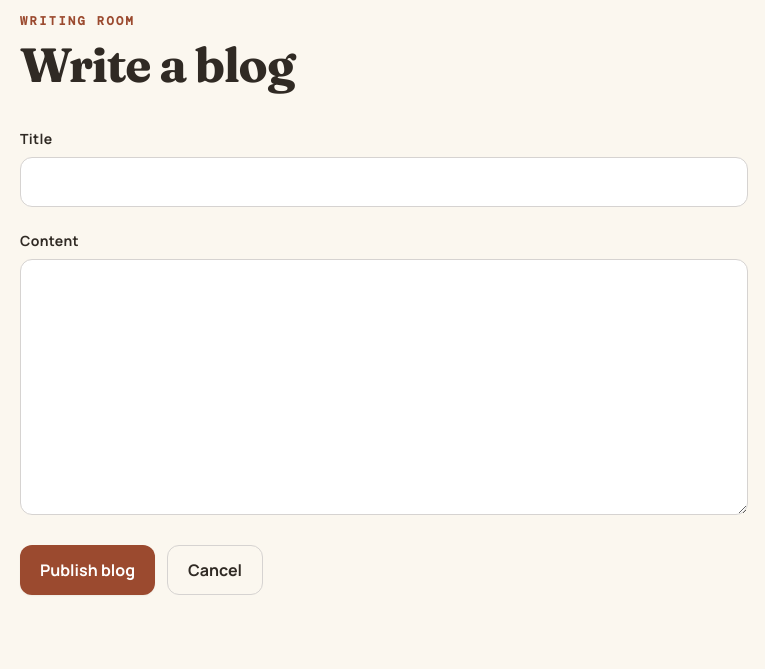
Test: writing and editing › shows accessible errors for blank values and does not write posts
Click the button "Publish blog" at (88,570), box 20,545 -> 155,595
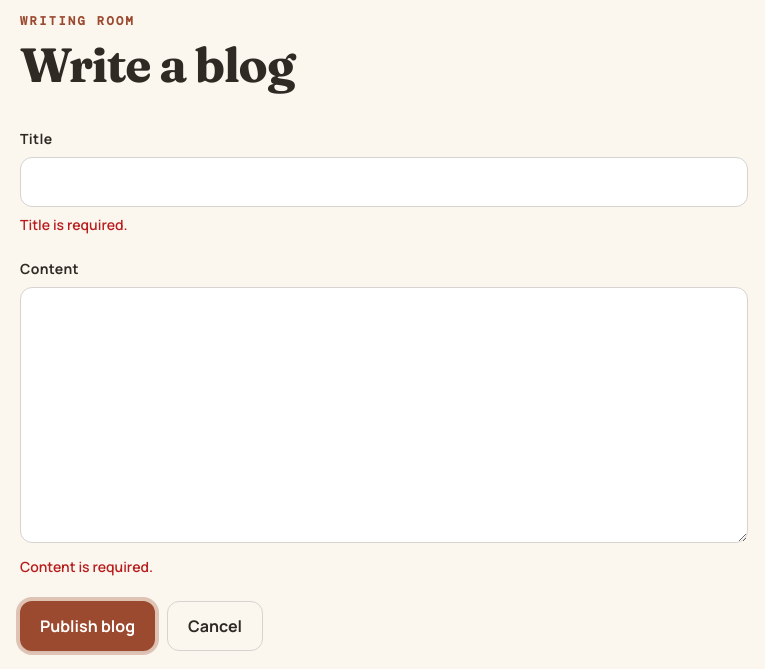
Expected: the text "Title is required." is shown, 20,215 -> 128,234
Expected: the text "Content is required." is shown, 20,557 -> 153,576
